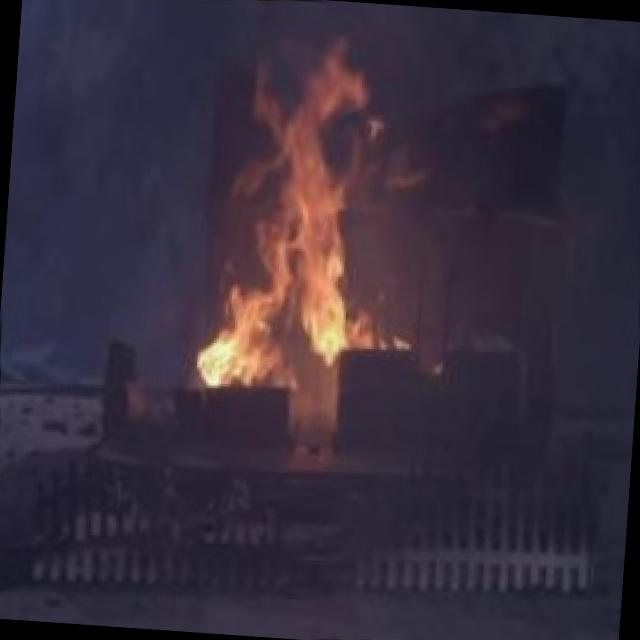fire: (185, 54, 387, 381)
